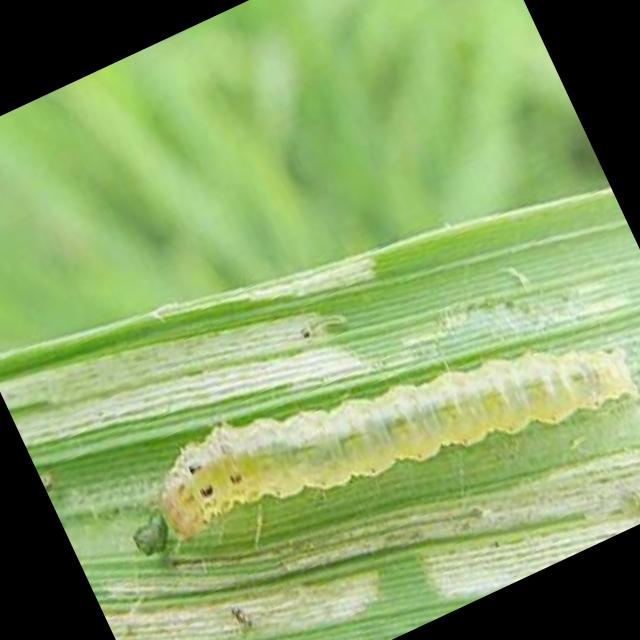leaf-folder: (101, 256, 640, 611)
